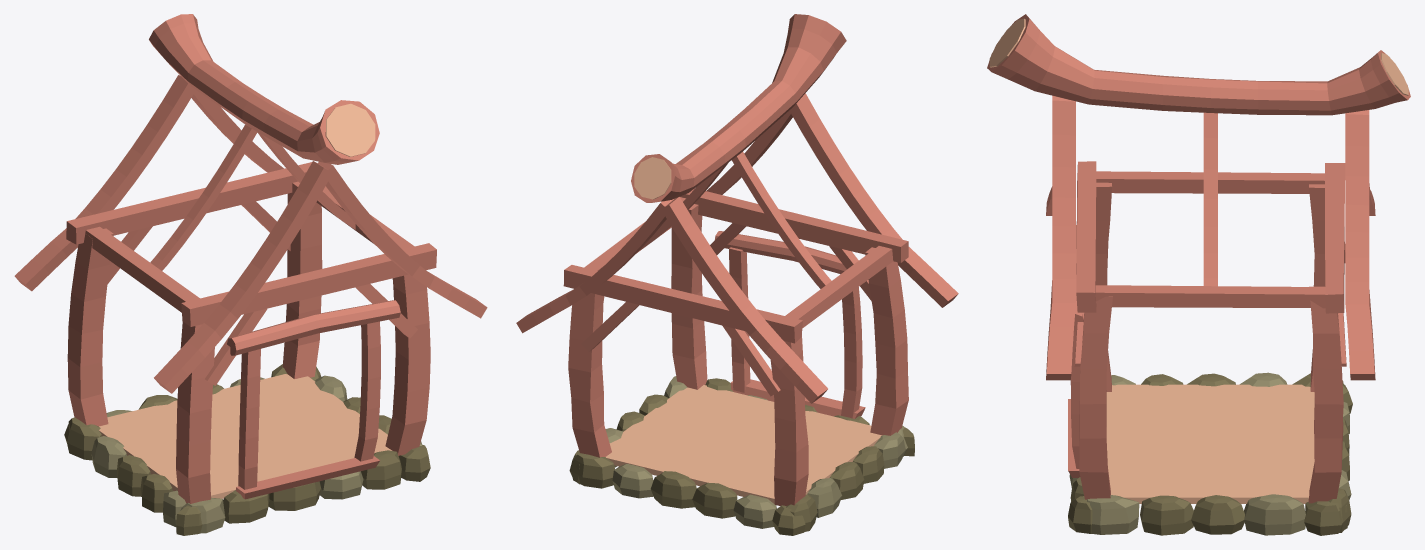
File: feed-store-frame.glb
3 views of the same model, side by side, from view 1: azimuth 30°, elevation 25°; view 2: azimuth 150°, elevation 25°; view 3: azimuth 270°, elevation 25° (orthographic). The views are drawn at different scales.
Visible parts, largest first — view 1: frame, floor, footing, ridge_log, footing_light, lintel, ridge_log_ends; view 2: frame, floor, ridge_log, footing, footing_light, lintel, ridge_log_ends; view 3: frame, floor, ridge_log, footing, footing_light, ridge_log_ends.
Boxes of the visible parts, x1,y1,x2,y2 form: frame: [14, 75, 487, 503]; floor: [99, 374, 392, 498]; footing: [64, 364, 430, 535]; ridge_log: [149, 14, 379, 164]; footing_light: [91, 375, 421, 533]; lintel: [227, 300, 400, 355]; ridge_log_ends: [325, 103, 375, 156]; frame: [516, 93, 958, 505]; floor: [606, 385, 882, 503]; ridge_log: [631, 14, 846, 202]; footing: [569, 378, 914, 535]; footing_light: [605, 376, 907, 528]; lintel: [715, 231, 846, 274]; ridge_log_ends: [634, 157, 671, 199]; frame: [1046, 95, 1375, 503]; floor: [1106, 384, 1314, 503]; ridge_log: [987, 14, 1410, 115]; footing: [1068, 373, 1352, 535]; footing_light: [1069, 372, 1351, 535]; ridge_log_ends: [989, 18, 1408, 95].
Bounding box in the file's own units: 3.4 × 4.23 × 3.56.
